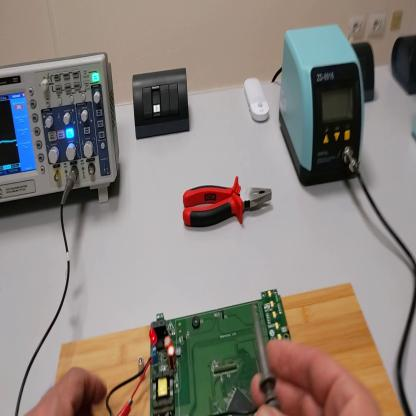hand: (247, 337, 383, 416), (27, 369, 106, 415)
low voltage board: (109, 289, 296, 415)
oscilloscope: (1, 53, 118, 214)
oscilloscope probe tip: (252, 300, 281, 412)
pliers: (183, 176, 274, 229)
socket: (353, 42, 379, 105), (393, 29, 416, 95)
welder station: (280, 22, 365, 186)
working area: (57, 272, 403, 416)
